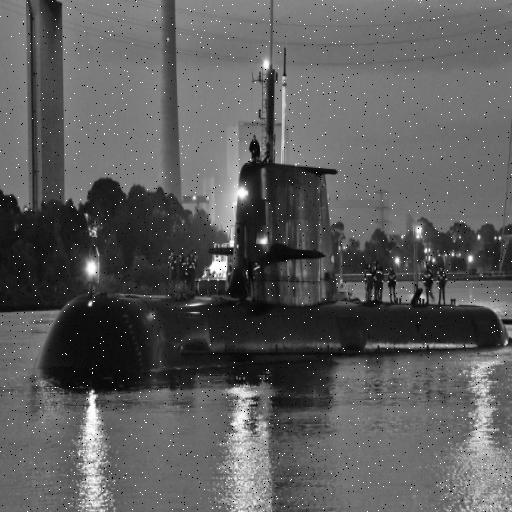submarine: (32, 1, 512, 388)
